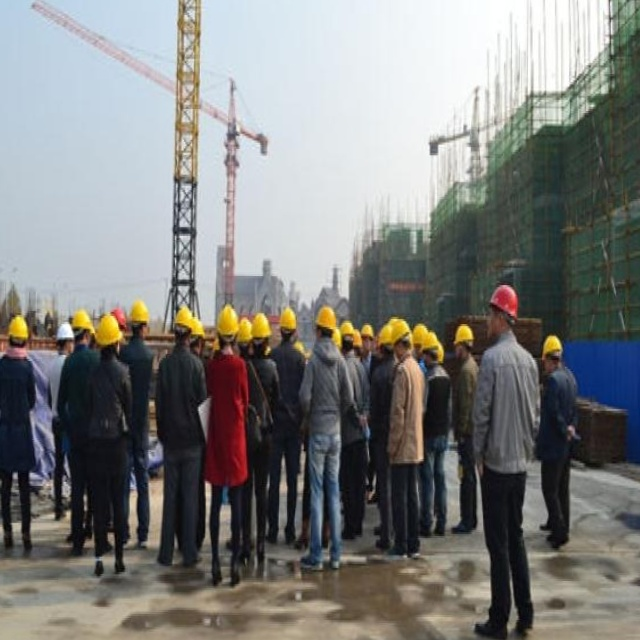Con_Casco: (488, 283, 518, 338), (97, 314, 124, 353), (541, 336, 562, 378), (9, 313, 29, 354)
